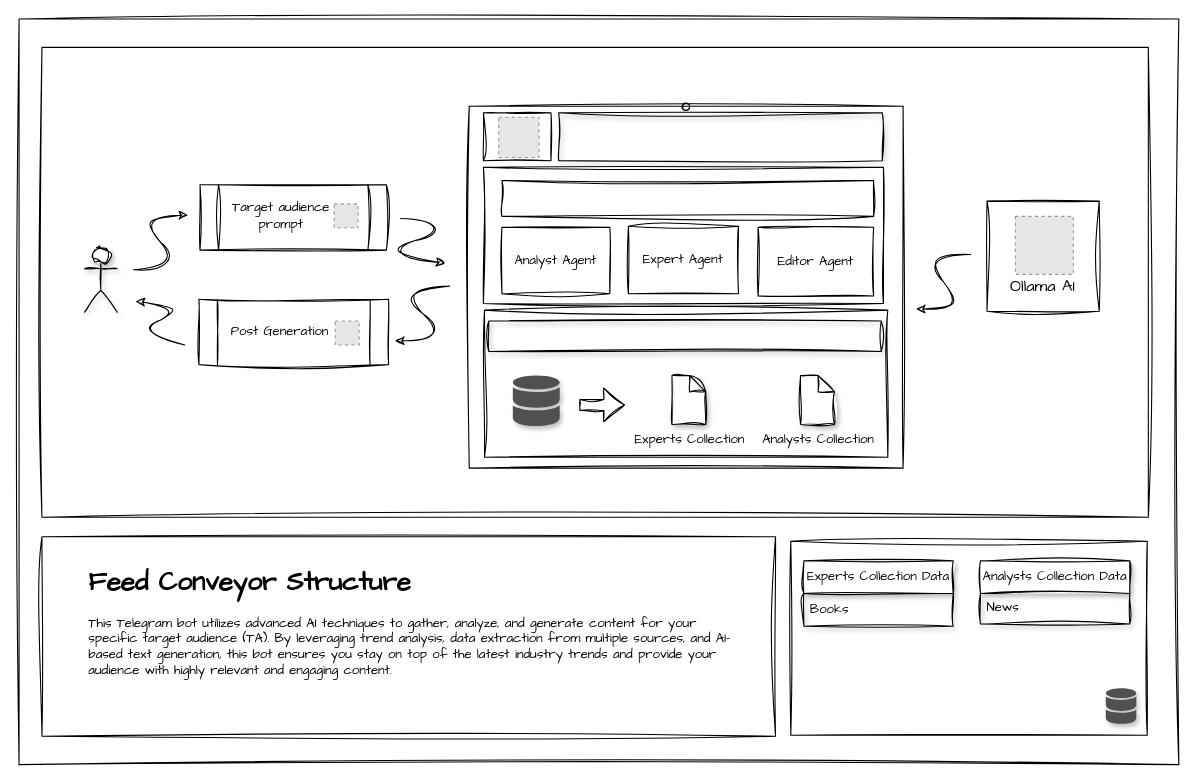
The diagram is 1198 pixels wide and 784 high, and some of its shapes have lost their labels. Grey dashed boxes stand in for pictures. The shapes that lost their labels are listed below. From the top down, each one's centre as x and y in pixels, then its label:
At (721,137): "Feed Conveyor Backend".
At (687,197): "Langgraph Multi-Agentic System".
At (101,280): "Actor".
At (685,337): "Data Layer".
At (537,402): "RAG".
